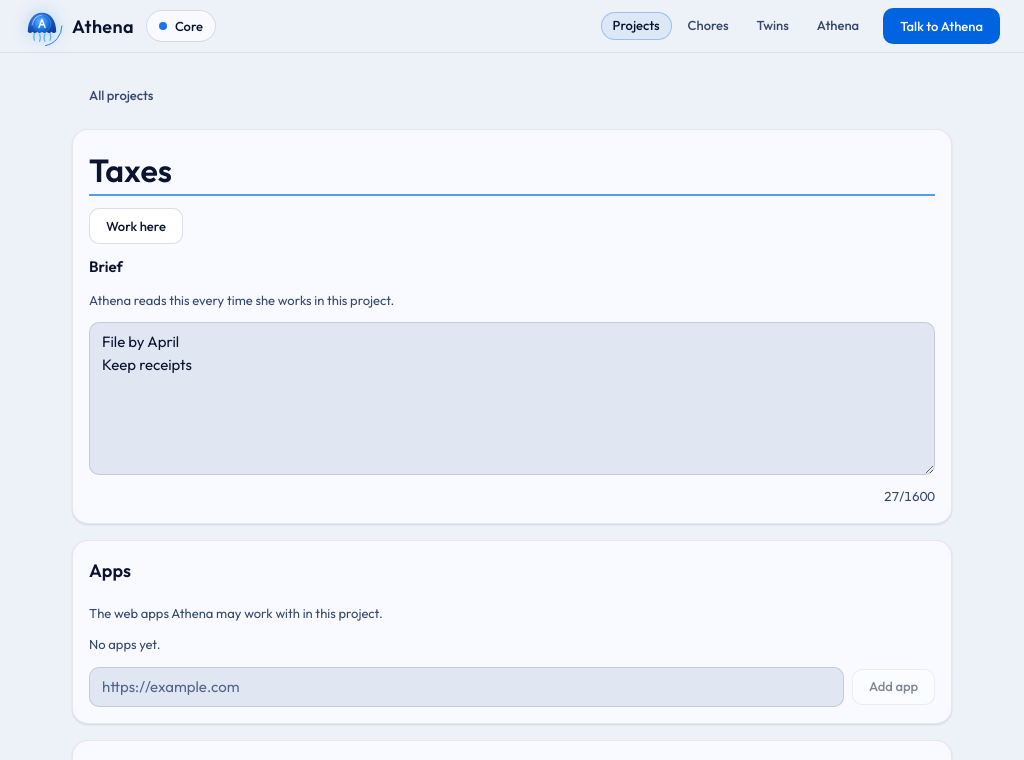
Test case: project level › edits the name on blur and the brief with its counter
This screenshot has width=1024, height=760.
Replace the text in the field named "Project name" with "Taxes 2026" at x=512, y=171, box [89,146,935,196]
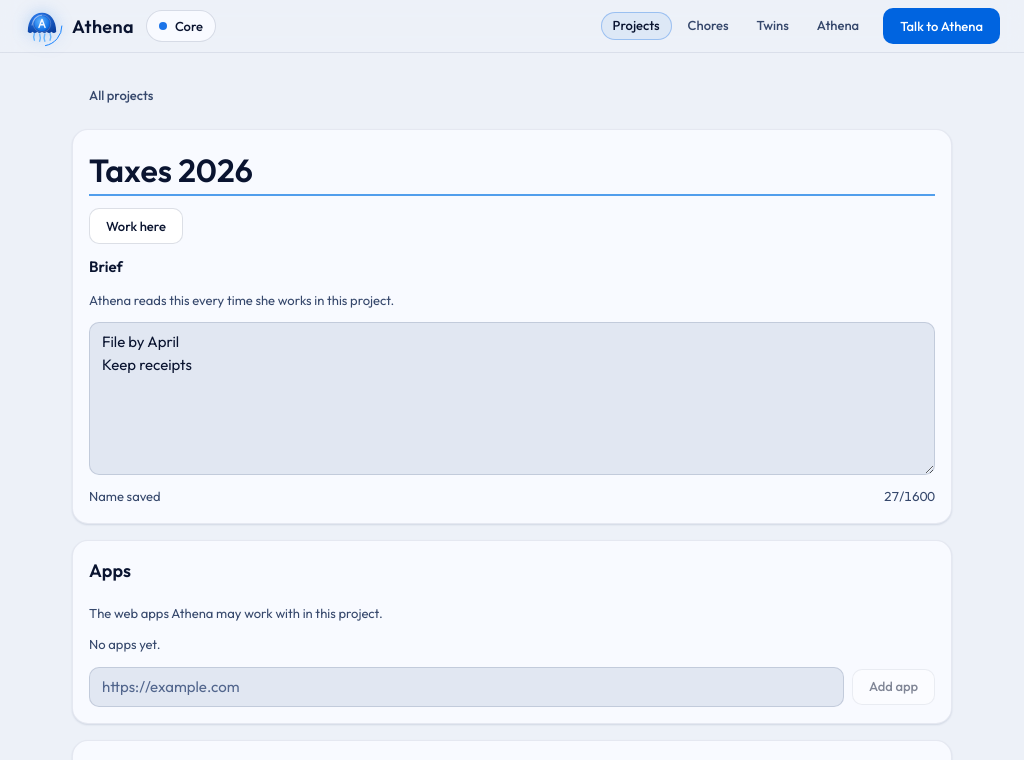
Replace the text in the text box labelled "Brief" with "File by May" at x=512, y=398, box [89,322,935,475]
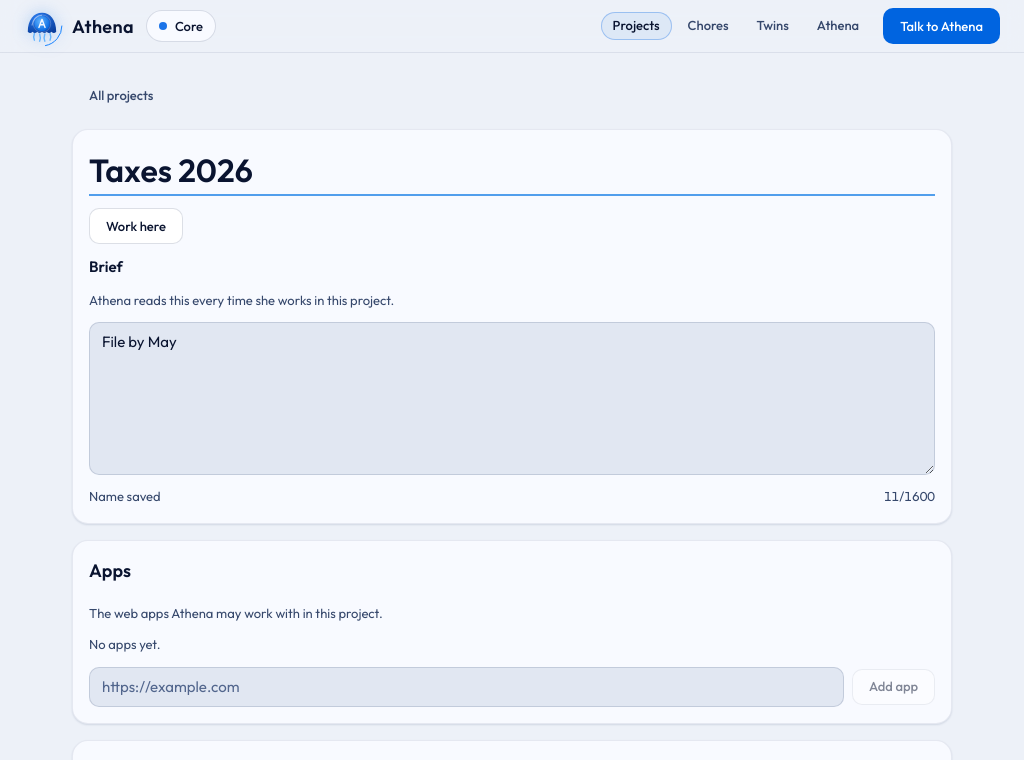
Check: the text "11/1600" is shown, box [884,487,935,506]
Leave the text box labelled "Brief", box [89,322,935,475]
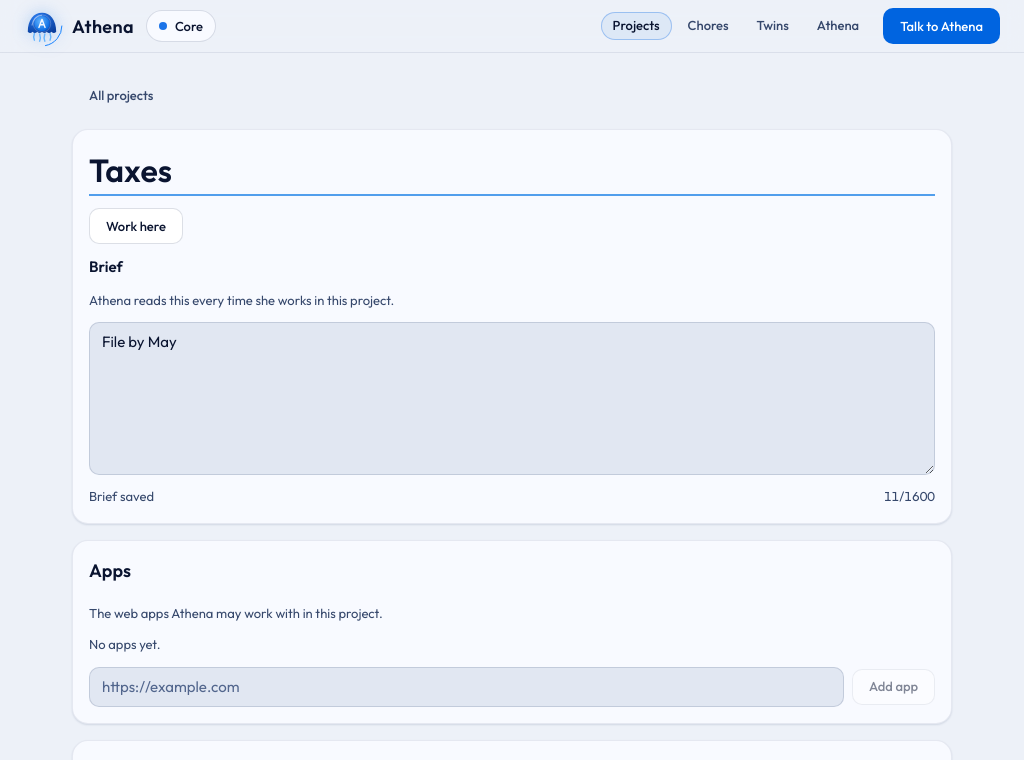
Check: the text "Athena reads this every time she works in this project." is shown, box [89,292,394,308]
Check: the text "Brief saved" is shown, box [89,487,154,506]
